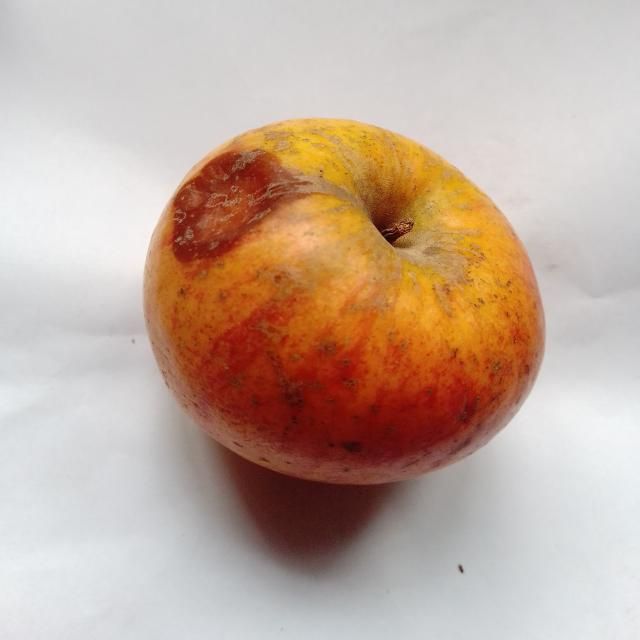apple: (144, 119, 544, 483)
